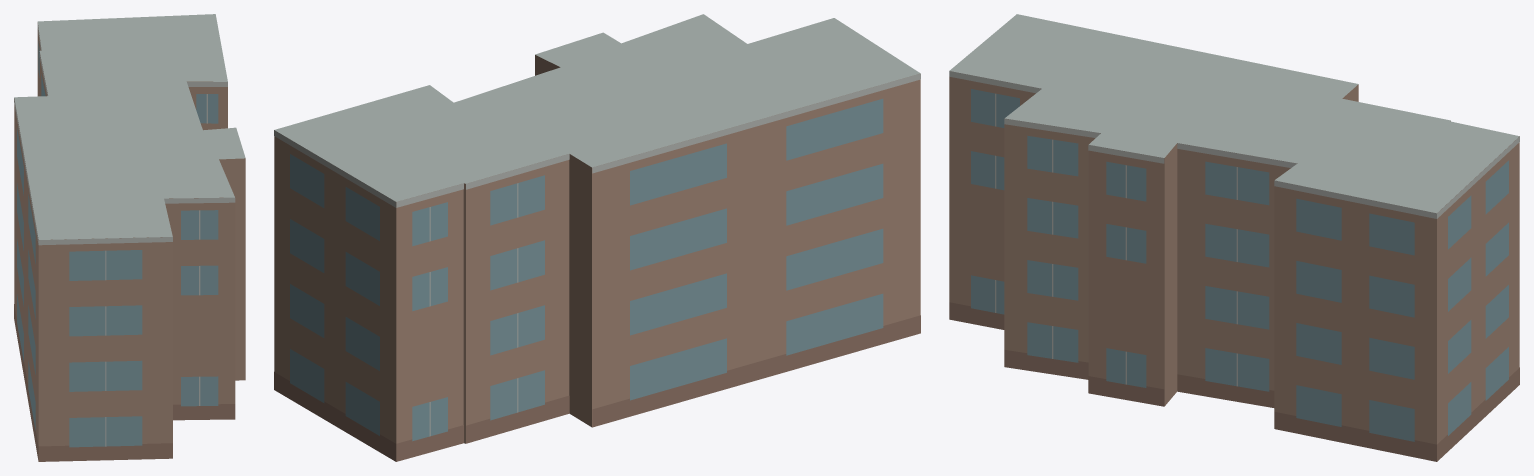
File: survey-upis-32533673.glb
3 views of the same model, side by side, from view 1: azimuth 30°, elevation 25°; view 2: azimuth 150°, elevation 25°; view 3: azimuth 270°, elevation 25° (orthographic). The views are drawn at different scales.
Parts seen in each view (by area): view 1: survey-upis-32533673.tmp; view 2: survey-upis-32533673.tmp; view 3: survey-upis-32533673.tmp.
Boxes of the visible parts, x1,y1,x2,y2 form: survey-upis-32533673.tmp: (14, 14, 245, 461); survey-upis-32533673.tmp: (274, 14, 920, 461); survey-upis-32533673.tmp: (949, 14, 1519, 461).
Bounding box in the file's own units: 18.06 × 10.5 × 21.85.
